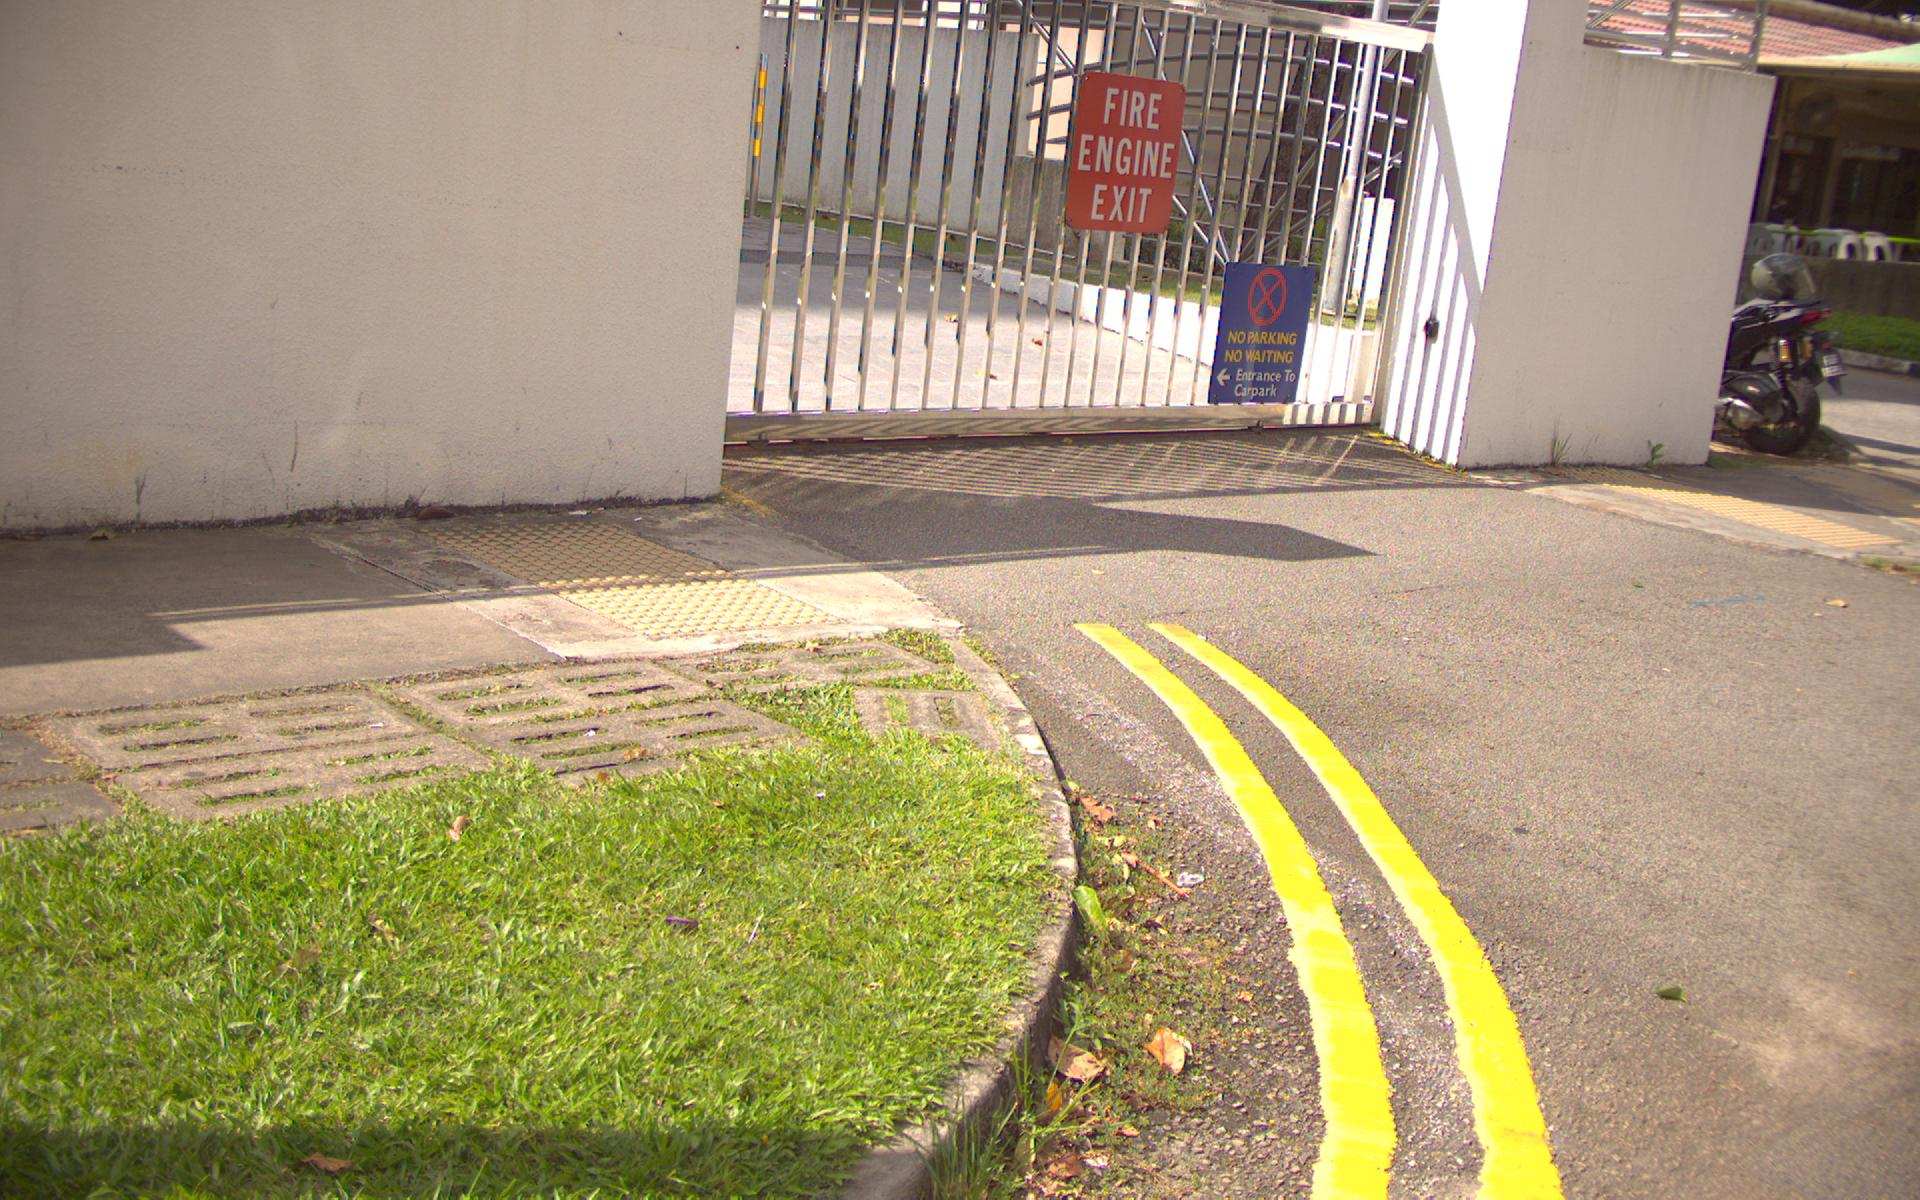road_curb_low: (950, 617, 1548, 1193)
